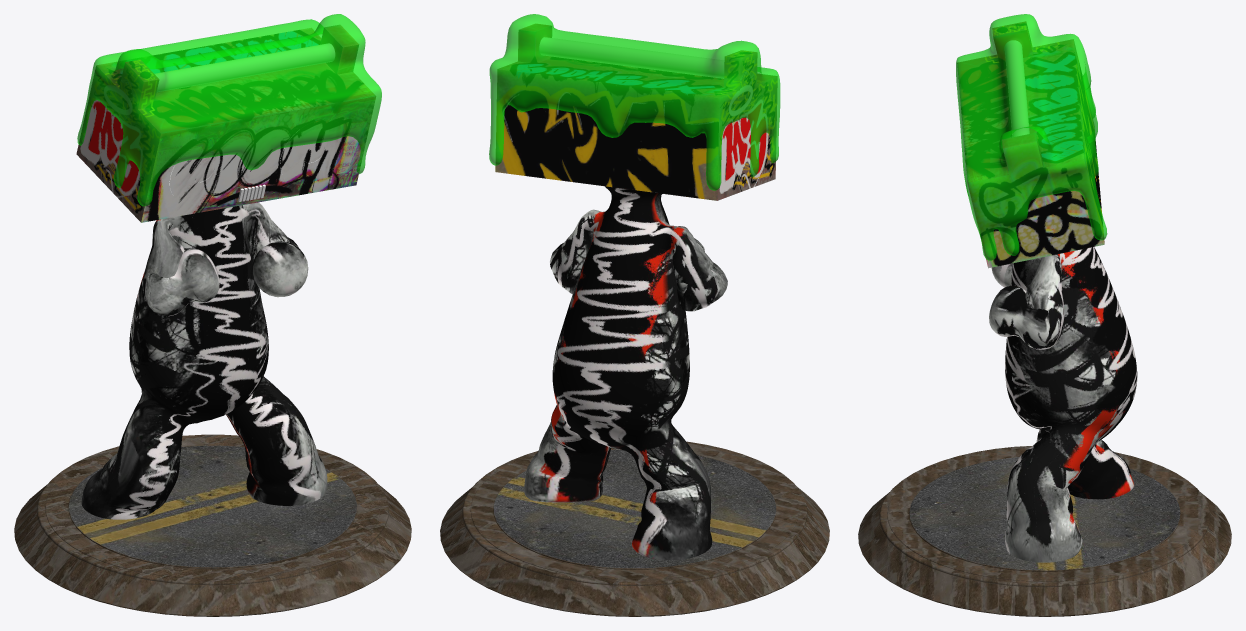
The picture shows the model from 3 angles, left to right: view 1: azimuth 30°, elevation 25°; view 2: azimuth 150°, elevation 25°; view 3: azimuth 270°, elevation 25°; orthographic projection. The views are drawn at different scales.
Parts seen in each view (by area): view 1: BBody; view 2: BBody; view 3: BBody.
Boxes of the visible parts, x1,y1,x2,y2 form: BBody: [14, 14, 411, 616]; BBody: [440, 14, 829, 616]; BBody: [858, 14, 1231, 616].
Bounding box in the file's own units: 1.45 × 2.06 × 1.45.
6 materials, 4 textured.
